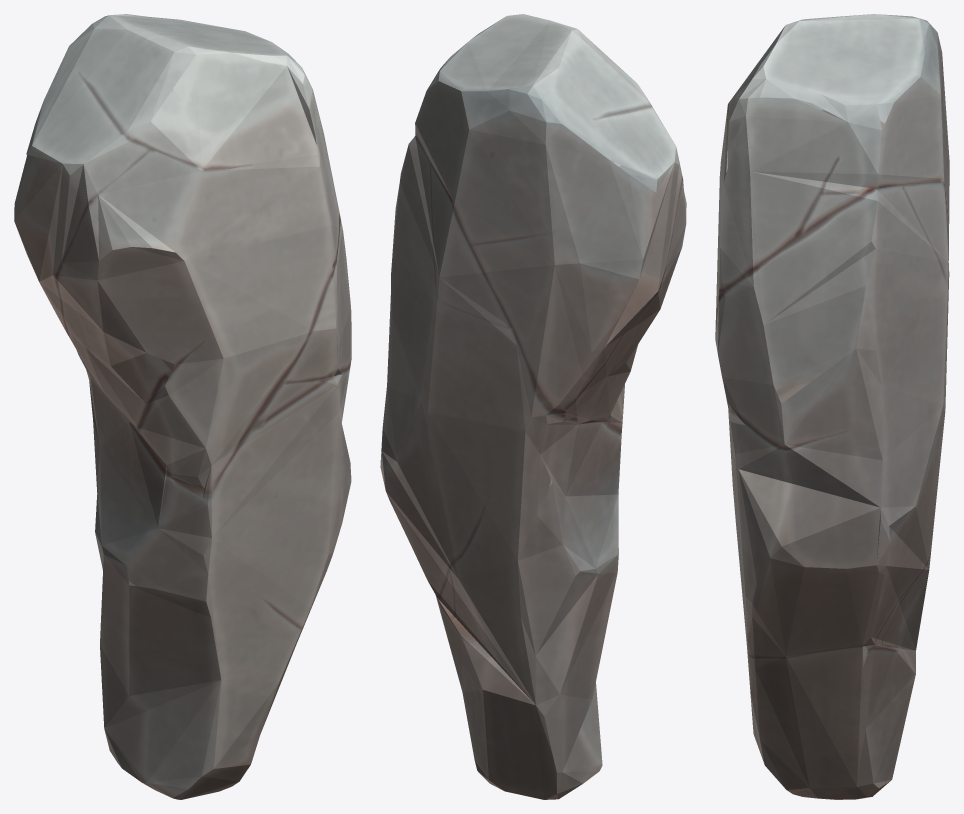
Rendered from ROK0110044.fbx.
The picture shows the model from 3 angles, left to right: view 1: azimuth 30°, elevation 25°; view 2: azimuth 150°, elevation 25°; view 3: azimuth 270°, elevation 25°; orthographic projection.
Visible parts, largest first — view 1: smROK0110044; view 2: smROK0110044; view 3: smROK0110044.
Part boxes in pixels (x1,y1,x2,y2): smROK0110044: (14,14,351,799); smROK0110044: (380,14,686,799); smROK0110044: (715,14,949,799).
Bounding box in the file's own units: 75.54 × 193 × 54.36.
1 material, 1 textured.
